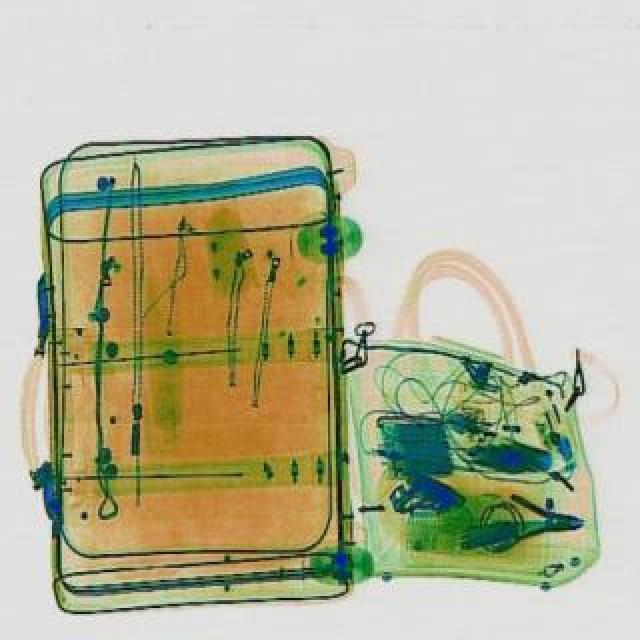wrench: (506, 492, 584, 546)
